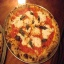pizza: (3, 4, 59, 60)
